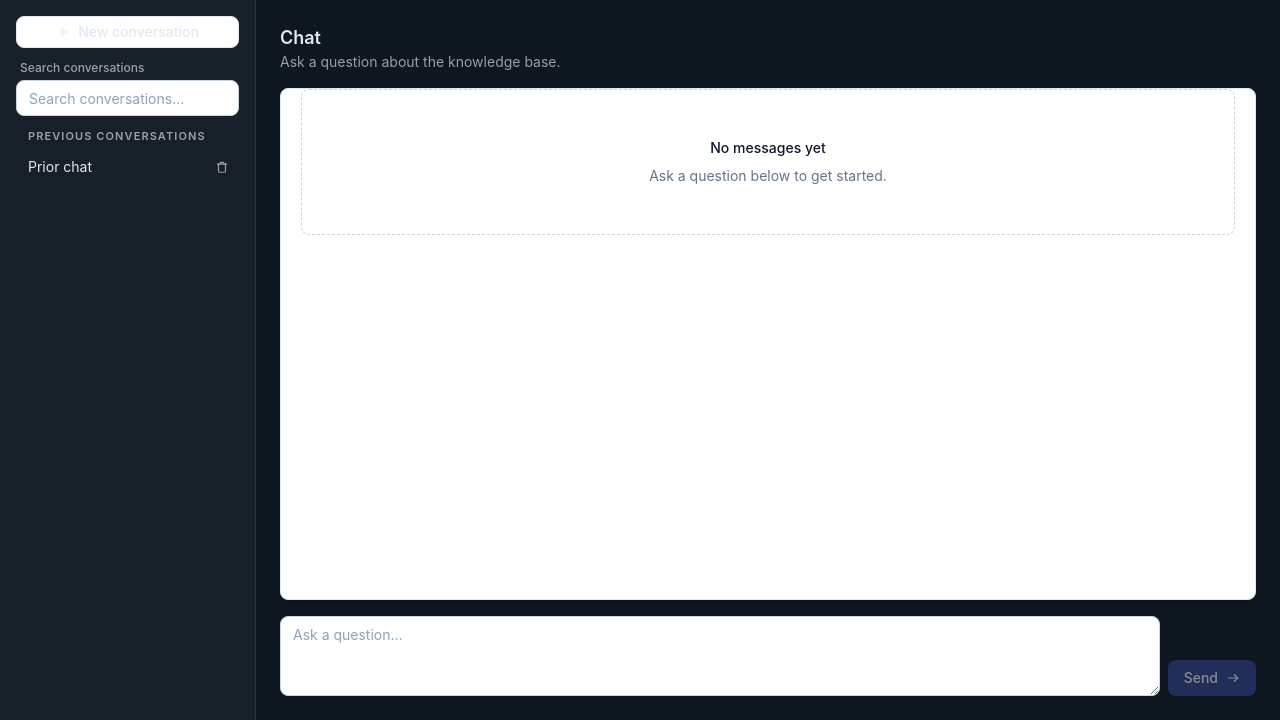
Test: Chat screen › opens a conversation via GET /conversations/{id} and renders its messages
Click the button "Prior chat": (110,166) [16, 148, 205, 184]
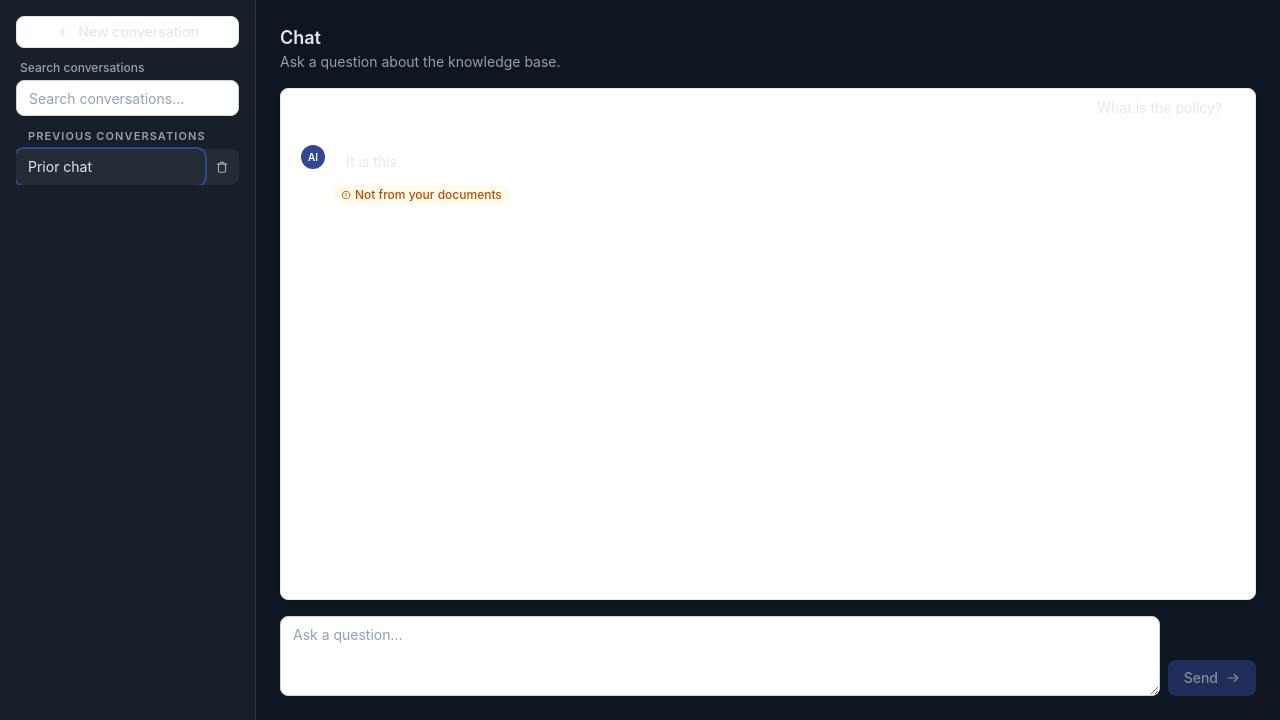
expect the text "What is the policy?" is shown: met, box [1084, 89, 1235, 127]
expect the text "It is this." is shown: met, box [333, 143, 414, 181]
